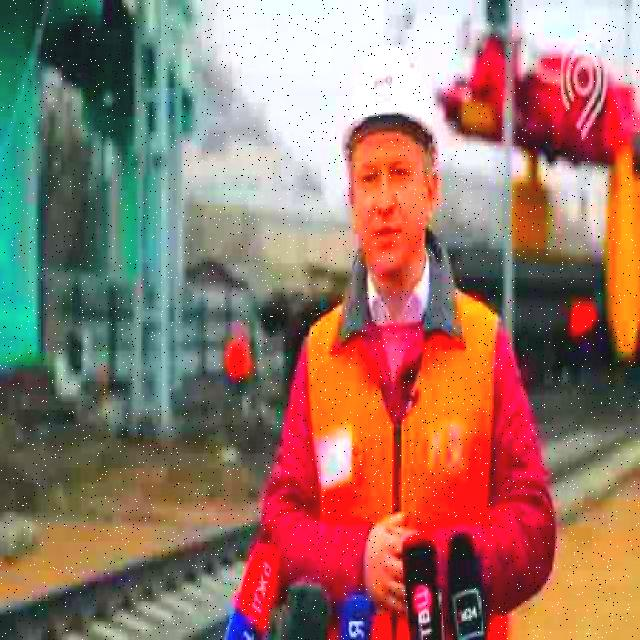Helmet: (338, 41, 442, 165)
Mask: (302, 276, 510, 638)
